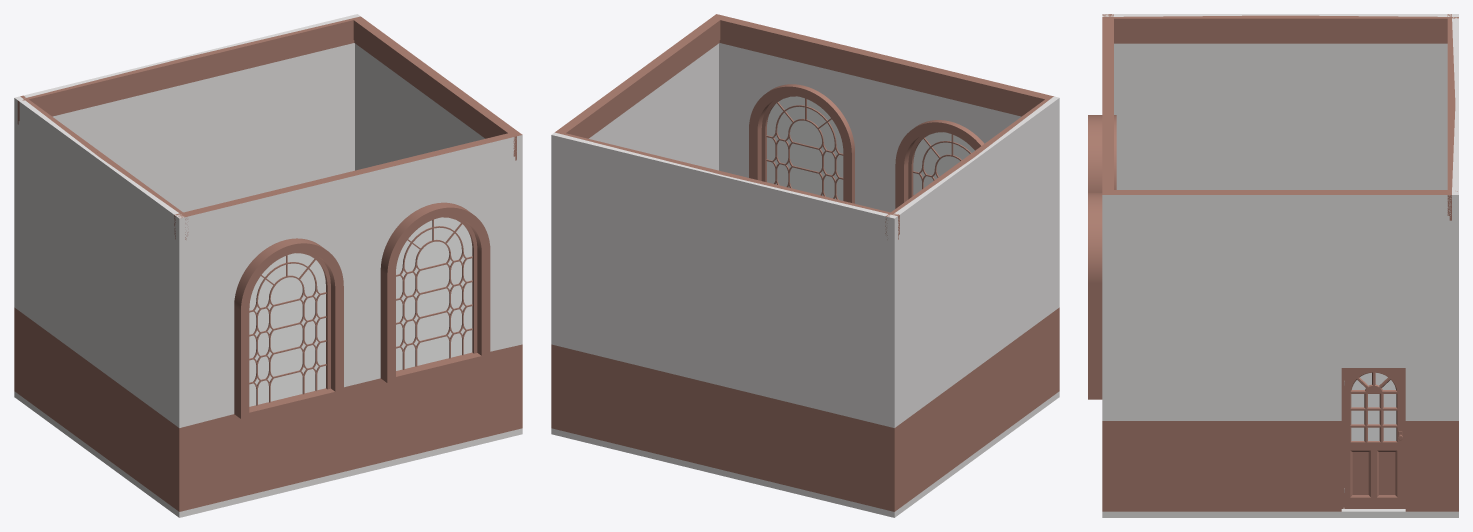
File: 897_room_view.glb
3 renders of one model, left to right at view 1: azimuth 30°, elevation 25°; view 2: azimuth 150°, elevation 25°; view 3: azimuth 270°, elevation 25°, orthographic. The views are drawn at different scales.
Visible parts, largest first — view 1: wall3, wall4, wall1, wall2, bottom; view 2: wall1, wall4, wall3, wall2, bottom; view 3: wall2, wall4, door1, wall3, wall1, bottom.
Boxes of the visible parts, left/top/right/bottom form: wall3: left=174, top=132, right=522, bottom=511; wall4: left=15, top=95, right=188, bottom=511; wall1: left=14, top=14, right=360, bottom=394; wall2: left=352, top=16, right=522, bottom=228; bottom: left=14, top=391, right=522, bottom=517; wall1: left=551, top=131, right=899, bottom=511; wall4: left=885, top=95, right=1059, bottom=507; wall3: left=715, top=14, right=1059, bottom=391; wall2: left=551, top=14, right=725, bottom=430; bottom: left=551, top=391, right=1059, bottom=517; wall2: left=1102, top=190, right=1458, bottom=511; wall4: left=1102, top=14, right=1458, bottom=189; door1: left=1344, top=368, right=1403, bottom=508; wall3: left=1088, top=14, right=1116, bottom=399; wall1: left=1447, top=14, right=1458, bottom=420; bottom: left=1102, top=508, right=1458, bottom=517.
Bounding box in the file's own units: 6.01 × 5 × 5.2.
